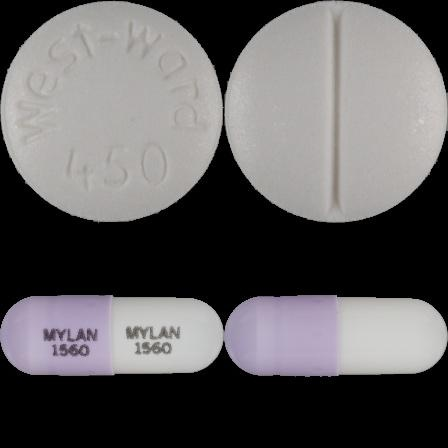76237-223: (0, 0, 224, 224)
